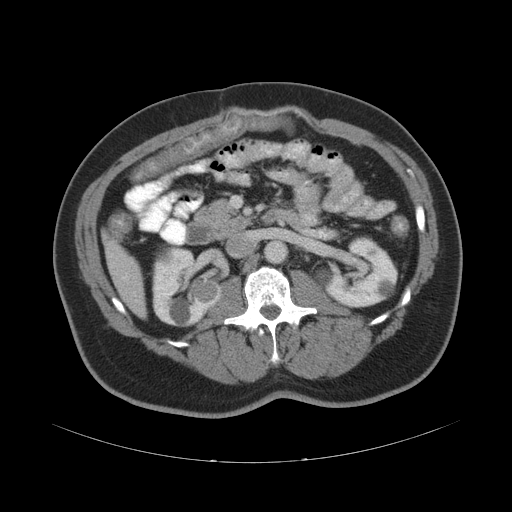Lesion: (191, 277, 222, 308)
